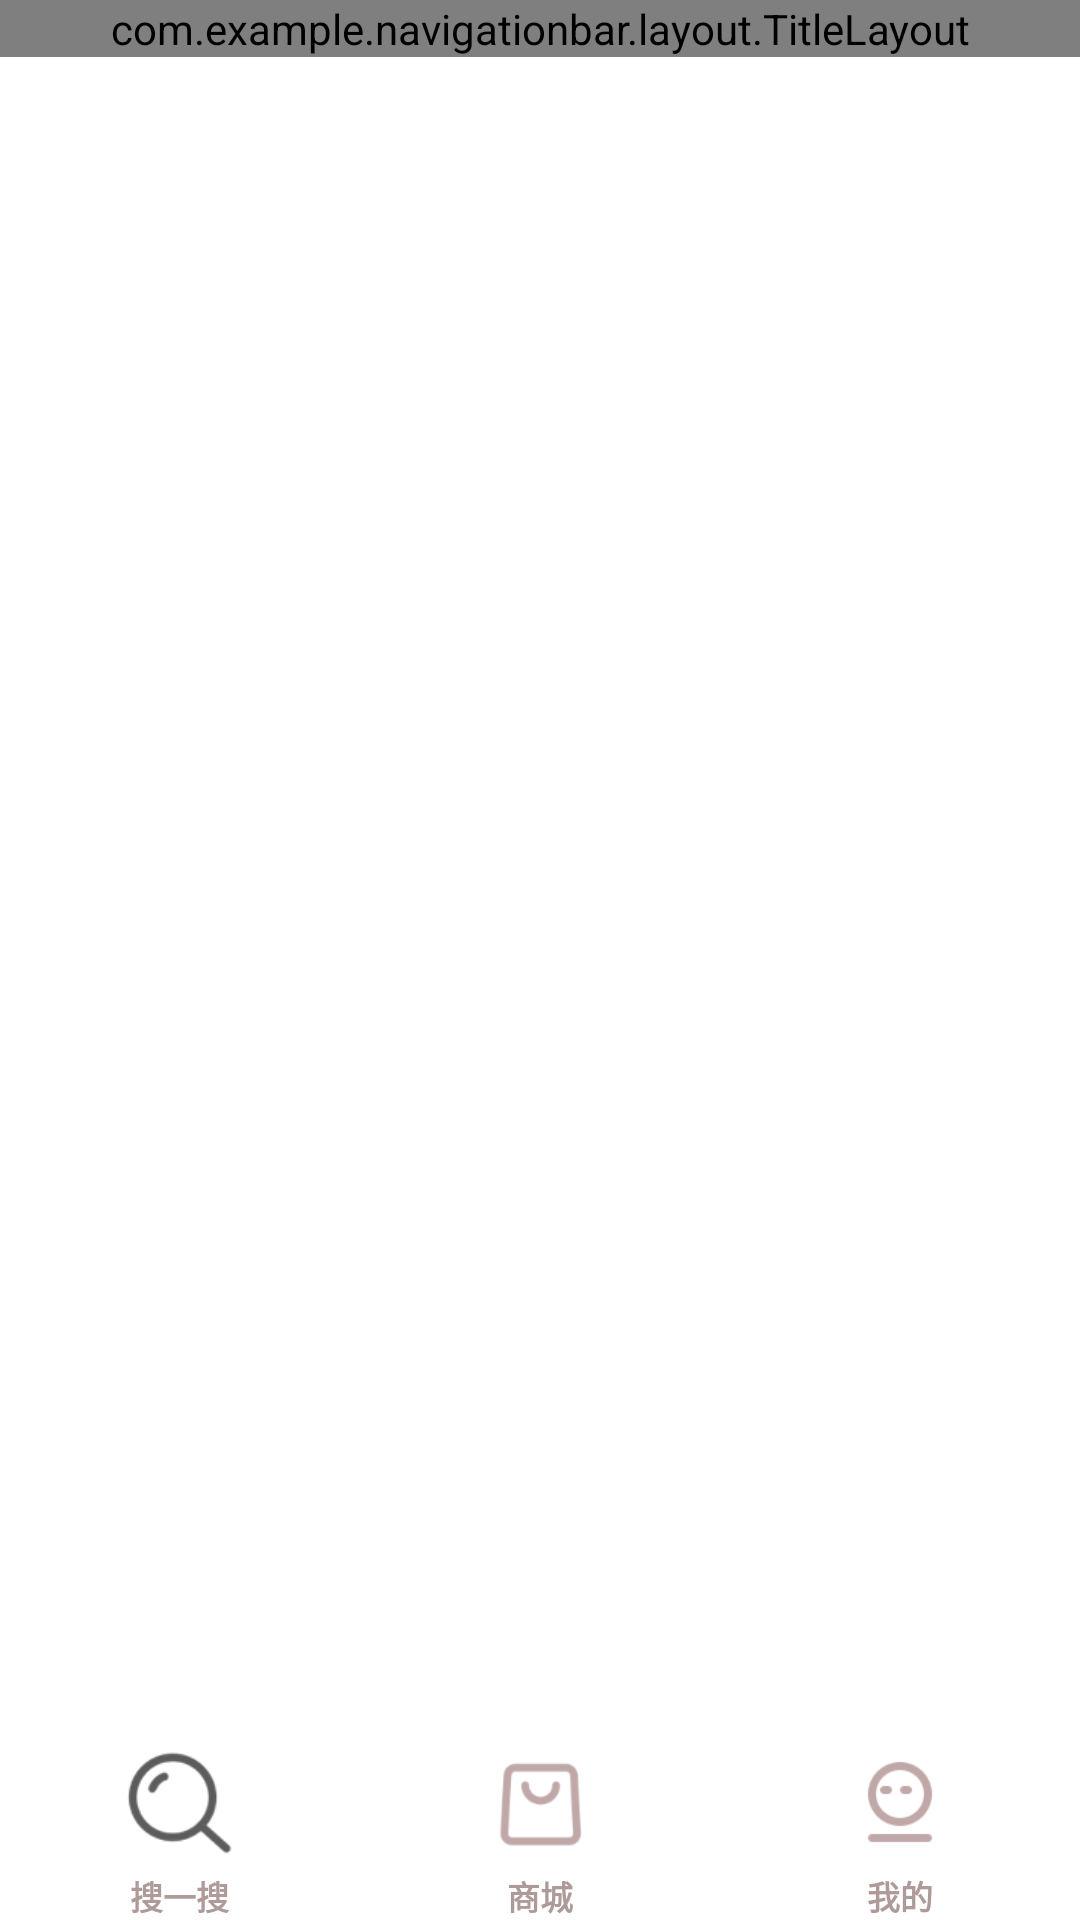

Locate icon controls on the screen. Image size 1080 x 1920, boxes as {"left": x1, "top": y1, "right": x2, "bottom": y2}.
person: {"left": 868, "top": 1762, "right": 932, "bottom": 1842}
